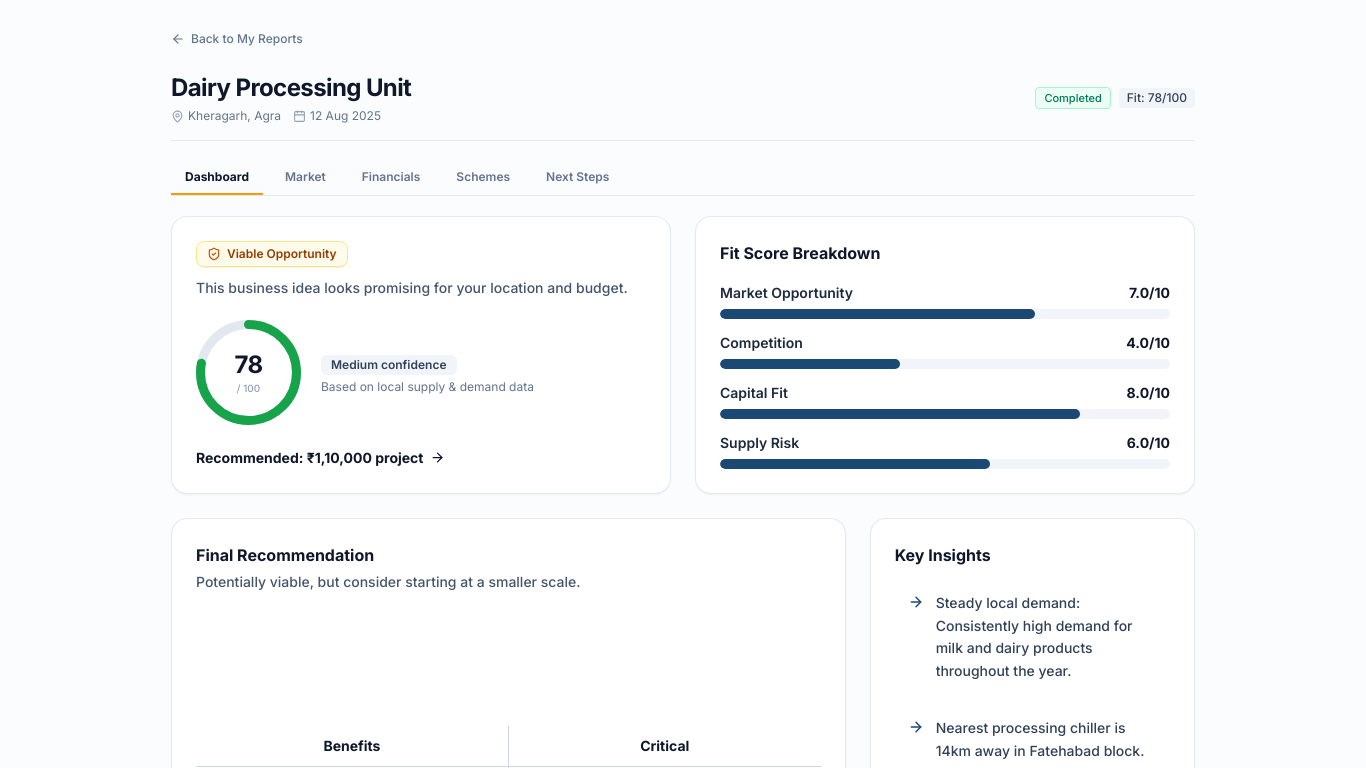
Scenario: ReportScreen (Feasibility Dashboard) › navigates from Dashboard teaser button to Financials tab
Click the button "Recommended: ₹1,10,000 project" at (320, 458), box [196, 448, 444, 468]
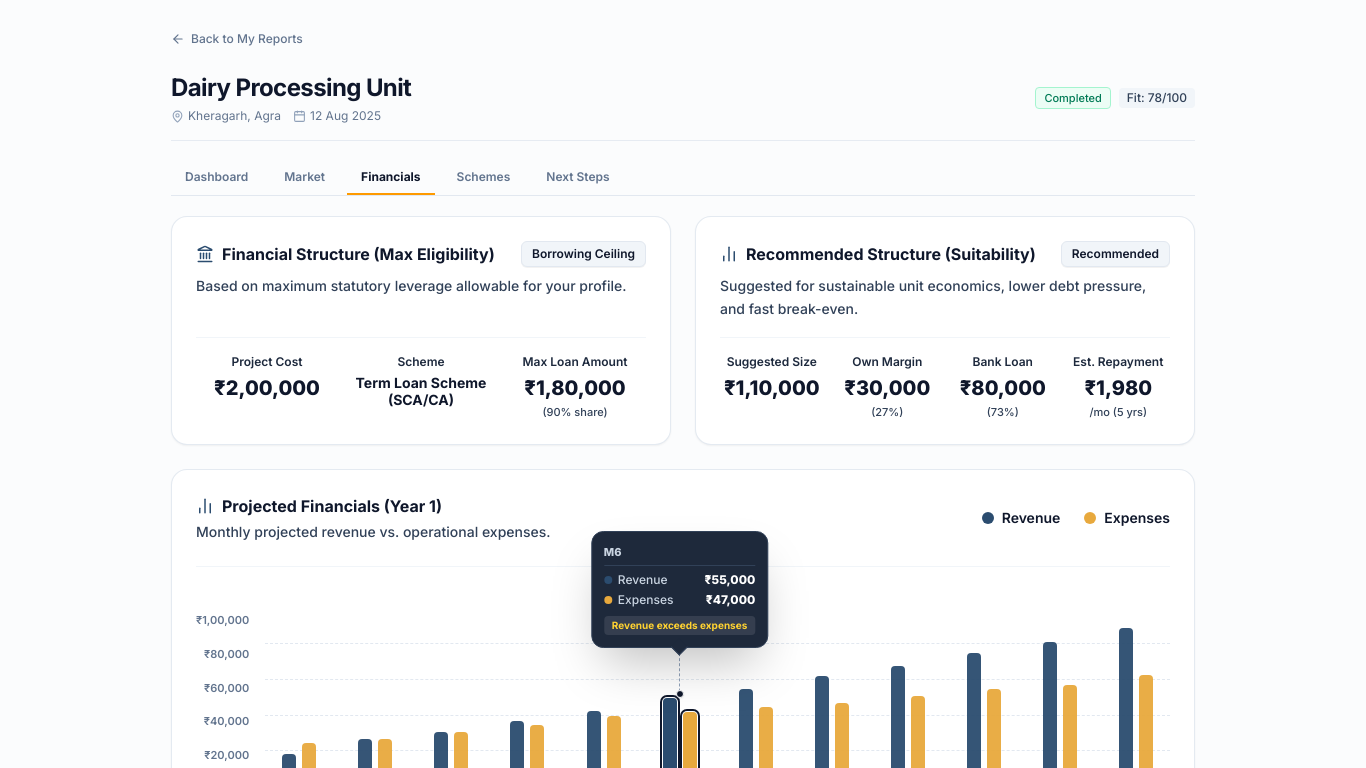
Check: the heading "Financial Structure (Max Eligibility)" is shown, box [222, 242, 495, 266]
